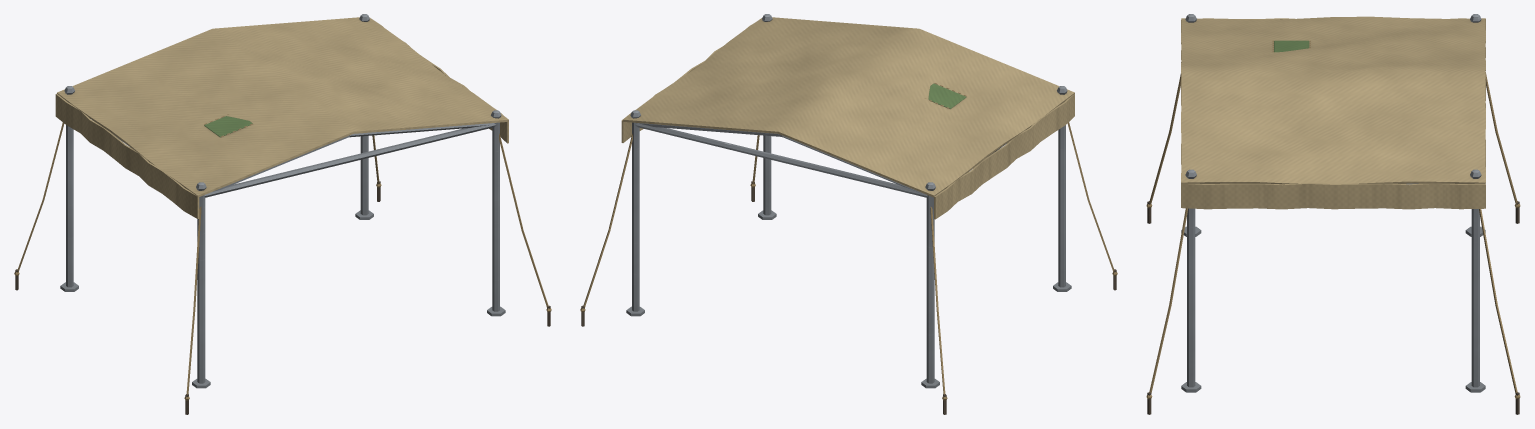
The model's file is toldo_mercado.fbx.
3 renders of one model, left to right at view 1: azimuth 30°, elevation 25°; view 2: azimuth 150°, elevation 25°; view 3: azimuth 270°, elevation 25°, orthographic. The views are drawn at different scales.
Parts seen in each view (by area): view 1: toldo_mercado; view 2: toldo_mercado; view 3: toldo_mercado.
Boxes of the visible parts, x1,y1,x2,y2 form: toldo_mercado: (14, 14, 551, 414); toldo_mercado: (580, 14, 1117, 414); toldo_mercado: (1146, 14, 1520, 414).
Size of the model in its own units: 5.46 by 3.26 by 4.47.
1 material, 1 textured.
